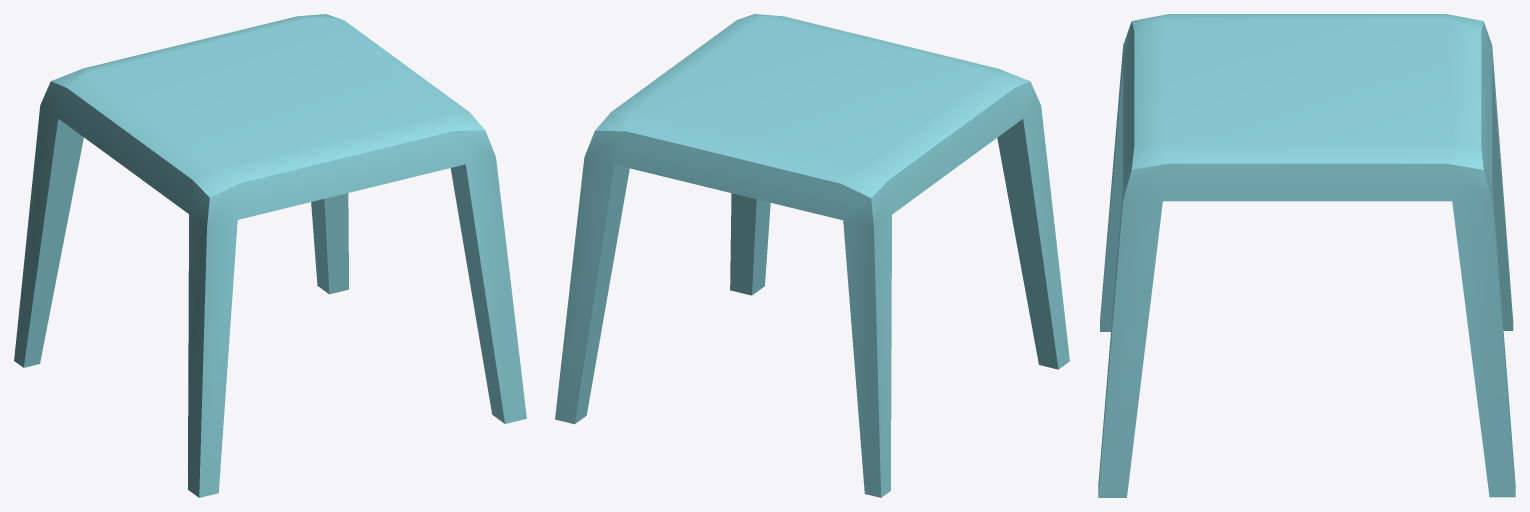
File: LobbySideTable.fbx
3 views of the same model, side by side, from view 1: azimuth 30°, elevation 25°; view 2: azimuth 150°, elevation 25°; view 3: azimuth 270°, elevation 25° (orthographic). The views are drawn at different scales.
Visible parts, largest first — view 1: SideTable1; view 2: SideTable1; view 3: SideTable1.
Boxes of the visible parts, x1,y1,x2,y2 form: SideTable1: (14,14,526,497); SideTable1: (555,14,1069,497); SideTable1: (1098,14,1515,497).
Size of the model in its own units: 11.53 by 10.02 by 11.53.
